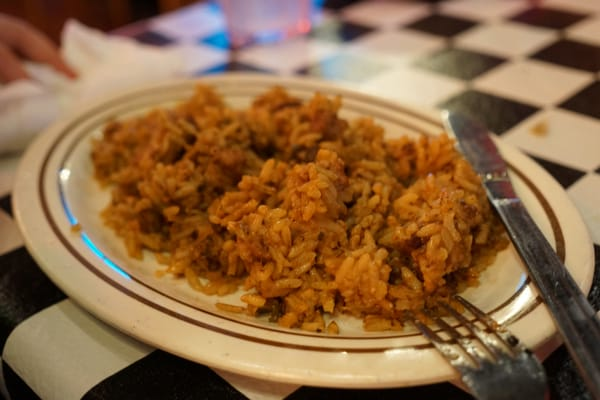sandwich: (439, 99, 600, 394)
